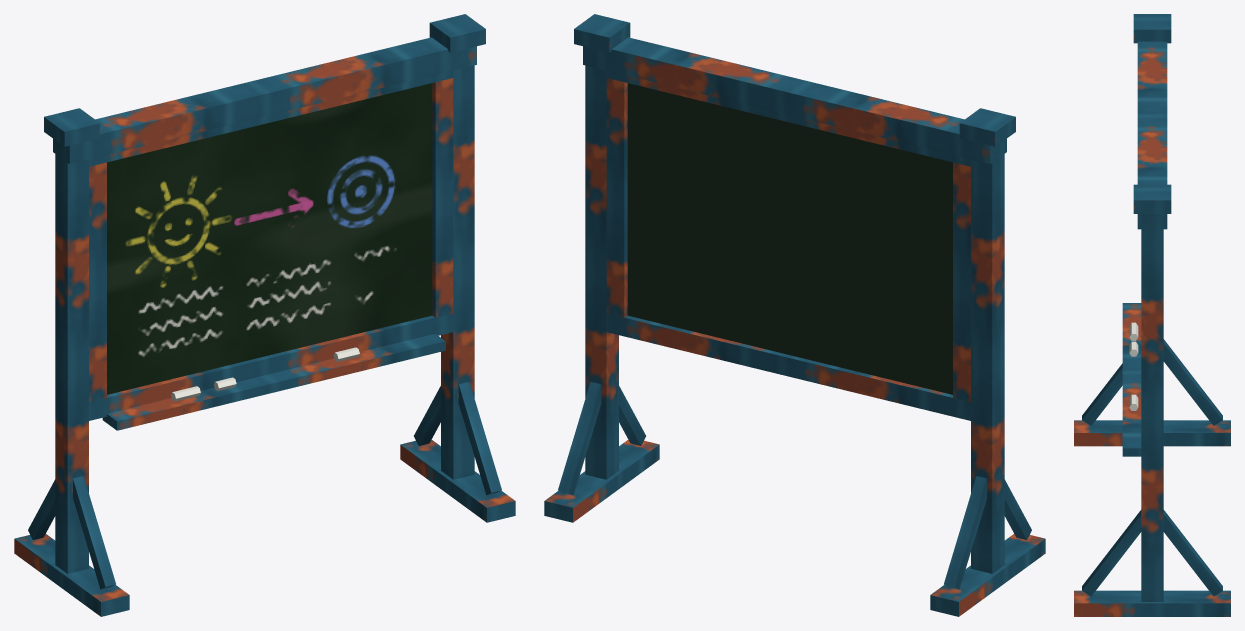
Rendered from chalkboard.glb.
3 renders of one model, left to right at view 1: azimuth 30°, elevation 25°; view 2: azimuth 150°, elevation 25°; view 3: azimuth 270°, elevation 25°, orthographic. The views are drawn at different scales.
Visible parts, largest first — view 1: Chalkboard; view 2: Chalkboard; view 3: Chalkboard.
Part boxes in pixels (x1,y1,x2,y2): Chalkboard: [14, 14, 515, 616]; Chalkboard: [544, 14, 1045, 616]; Chalkboard: [1074, 14, 1230, 616].
Bounding box in the file's own units: 1.18 × 1.24 × 0.42.
Materials: 4 (2 with a texture image).
